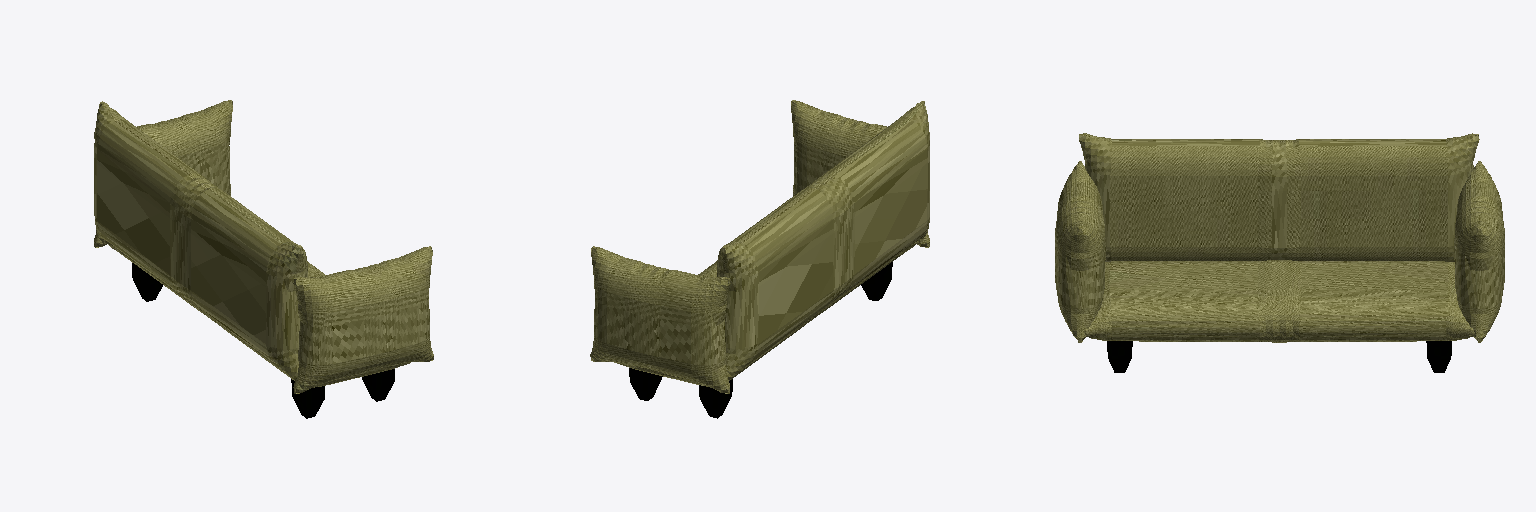
3 renders of one model, left to right at view 1: azimuth 30°, elevation 25°; view 2: azimuth 150°, elevation 25°; view 3: azimuth 270°, elevation 25°, orthographic.
Parts seen in each view (by area): view 1: Sillon_sofa, PatasSillon_PatasSofa; view 2: Sillon_sofa, PatasSillon_PatasSofa; view 3: Sillon_sofa, PatasSillon_PatasSofa.
Boxes of the visible parts, x1=… form: Sillon_sofa: x1=94, y1=100, x2=433, y2=393; PatasSillon_PatasSofa: x1=132, y1=263, x2=394, y2=418; Sillon_sofa: x1=590, y1=100, x2=929, y2=393; PatasSillon_PatasSofa: x1=629, y1=262, x2=892, y2=418; Sillon_sofa: x1=1055, y1=133, x2=1504, y2=342; PatasSillon_PatasSofa: x1=1107, y1=341, x2=1451, y2=372.
Size of the model in its own units: 8.8 by 10.36 by 22.24.
Materials: 2 (2 with a texture image).